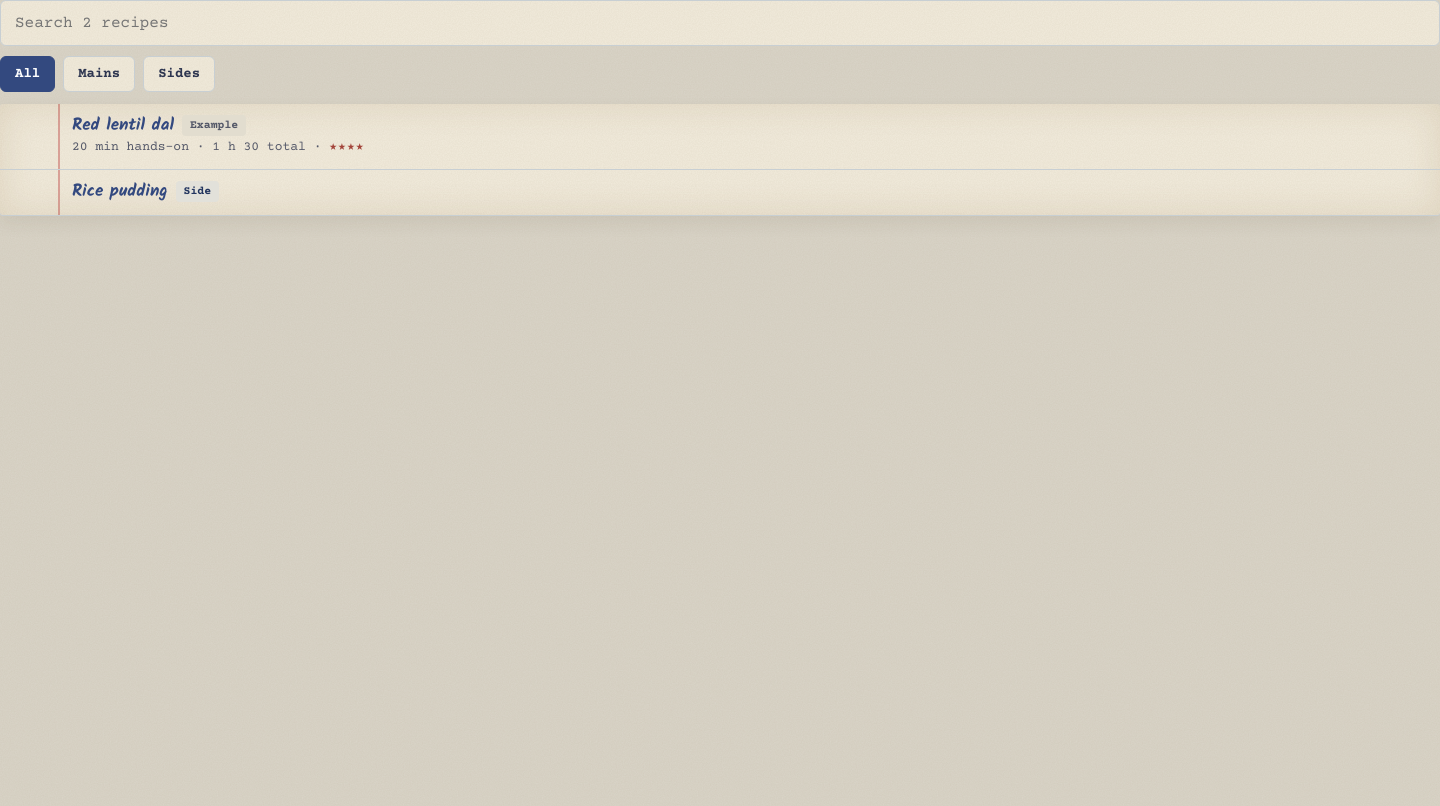
Test: Recipe view › shows meta, provides, tags, ingredients and method with timers
Click the button "Red lentil dal Example 20 min hands-on · 1 h 30 total · ★★★★".
click(123, 126)  # box 0,104 -> 1439,170
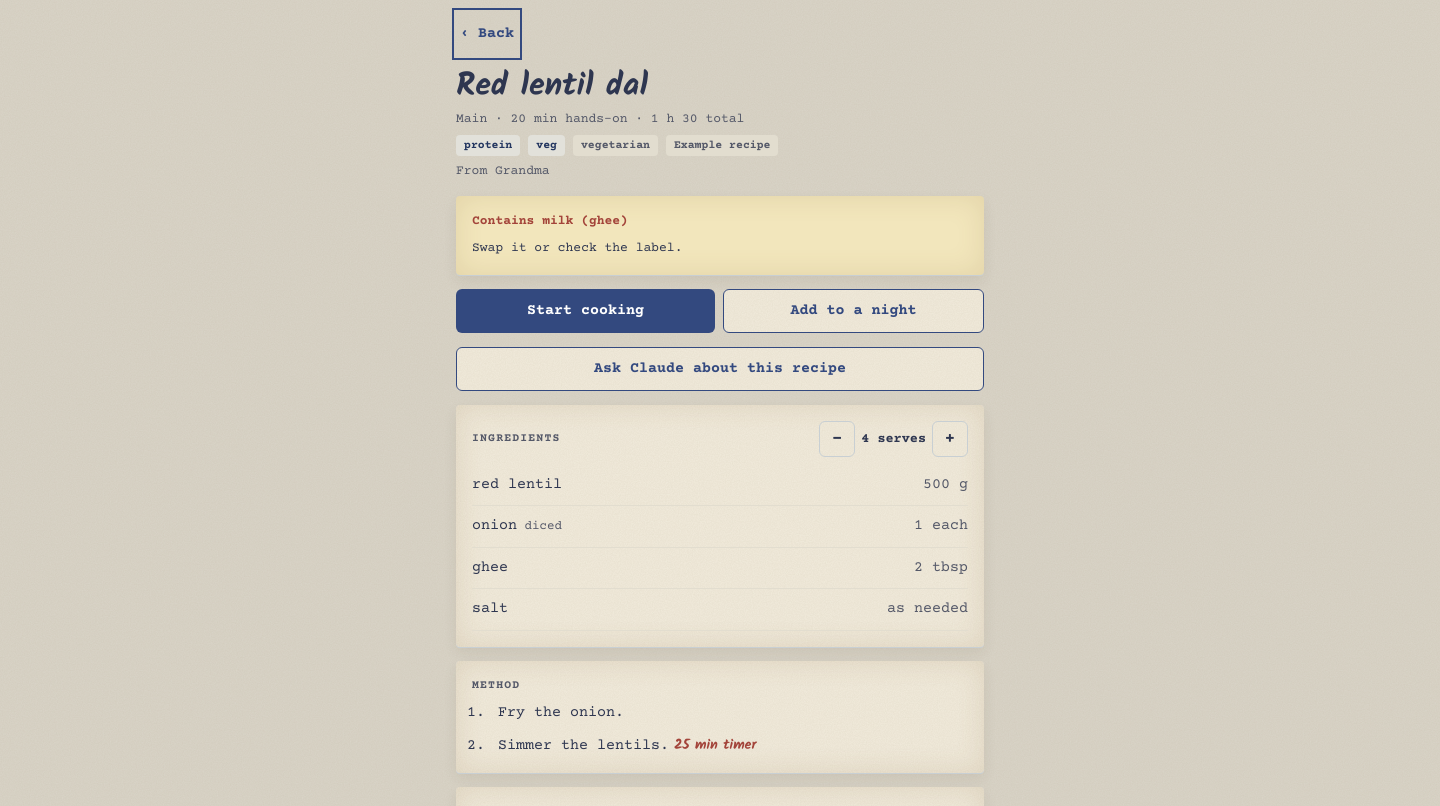
Result: the dialog "Red lentil dal" shows "Main · 20 min hands-on · 1 h 30 total" at 456,112 -> 744,126
Result: the text "protein" is shown at 456,135 -> 520,156
Result: the text "veg" is shown at 528,135 -> 565,156
